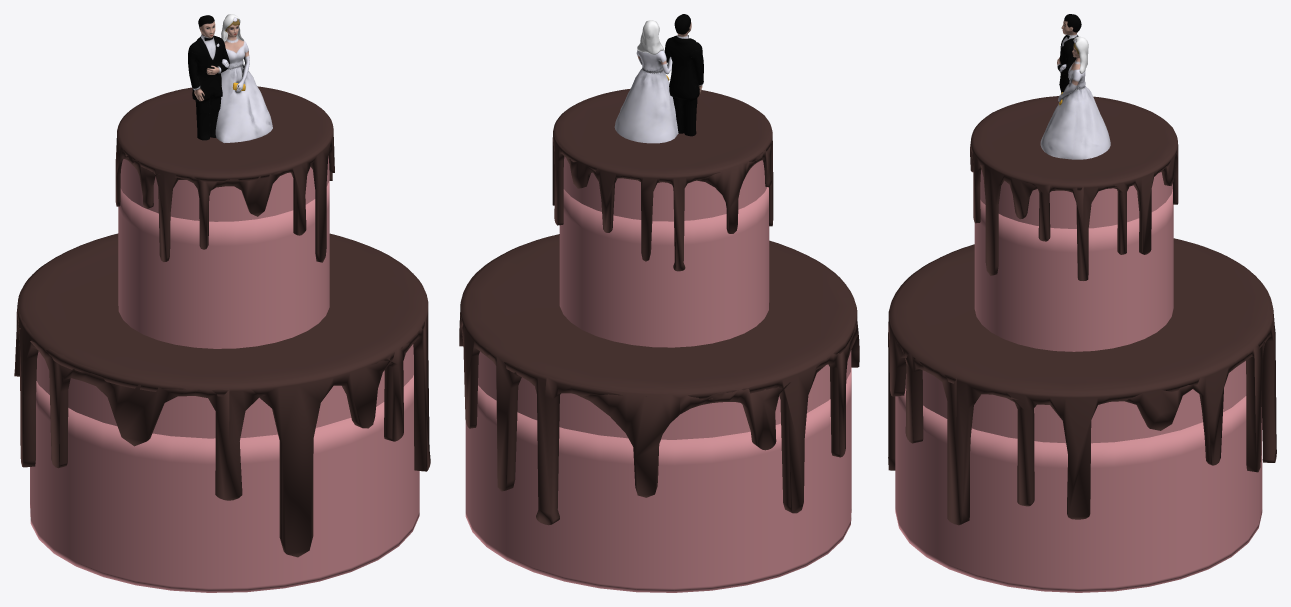
The model's file is 2-tier-blush-ganache-bridegroom.glb.
The picture shows the model from 3 angles, left to right: view 1: azimuth 30°, elevation 25°; view 2: azimuth 150°, elevation 25°; view 3: azimuth 270°, elevation 25°; orthographic projection. The views are drawn at different scales.
Parts seen in each view (by area): view 1: Cylinder.023, tHE ICING.004, Cylinder.013, tHE ICING.003, 13501_Cake_Topper_Bride_Groom_v1_L1.003; view 2: Cylinder.023, tHE ICING.004, Cylinder.013, tHE ICING.003, 13501_Cake_Topper_Bride_Groom_v1_L1.003; view 3: Cylinder.023, tHE ICING.004, Cylinder.013, tHE ICING.003, 13501_Cake_Topper_Bride_Groom_v1_L1.003.
Part boxes in pixels (<box>): Cylinder.023: <box>30,344,419,592</box>; tHE ICING.004: <box>14,233,430,557</box>; Cylinder.013: <box>118,156,329,348</box>; tHE ICING.003: <box>115,86,334,262</box>; 13501_Cake_Topper_Bride_Groom_v1_L1.003: <box>188,14,272,142</box>; Cylinder.023: <box>465,350,851,592</box>; tHE ICING.004: <box>459,234,859,525</box>; Cylinder.013: <box>559,156,769,347</box>; tHE ICING.003: <box>552,88,773,271</box>; 13501_Cake_Topper_Bride_Groom_v1_L1.003: <box>614,14,703,143</box>; Cylinder.023: <box>895,361,1262,592</box>; tHE ICING.004: <box>888,238,1276,525</box>; Cylinder.013: <box>974,169,1173,351</box>; tHE ICING.003: <box>970,96,1178,280</box>; 13501_Cake_Topper_Bride_Groom_v1_L1.003: <box>1040,14,1110,159</box>.
Bounding box in the file's own units: 3.53 × 4.79 × 3.46.
3 materials, 1 textured.
